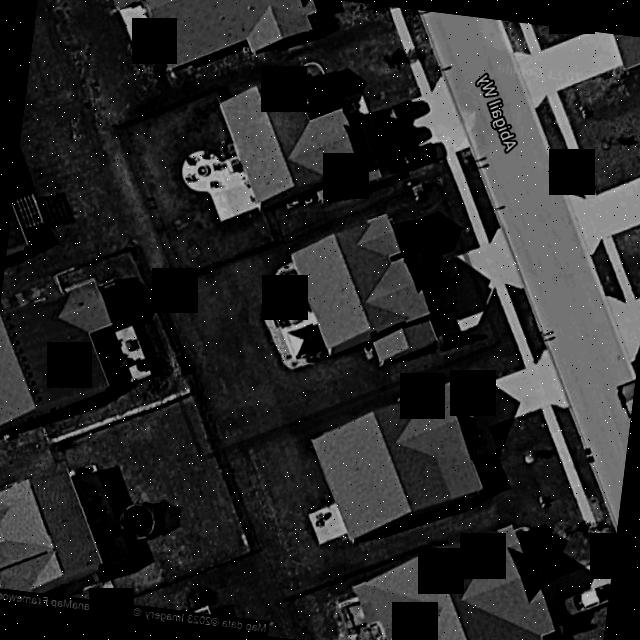Driveway: (404, 252, 482, 336)
Extra Driveway: (466, 225, 525, 307)
Extra Lawn: (439, 178, 479, 251), (464, 167, 500, 244), (504, 283, 539, 335), (486, 288, 514, 344)
Extra Sidewalk: (455, 174, 489, 246), (495, 284, 524, 339)
House: (264, 215, 436, 367)
Other: (363, 344, 375, 359)
